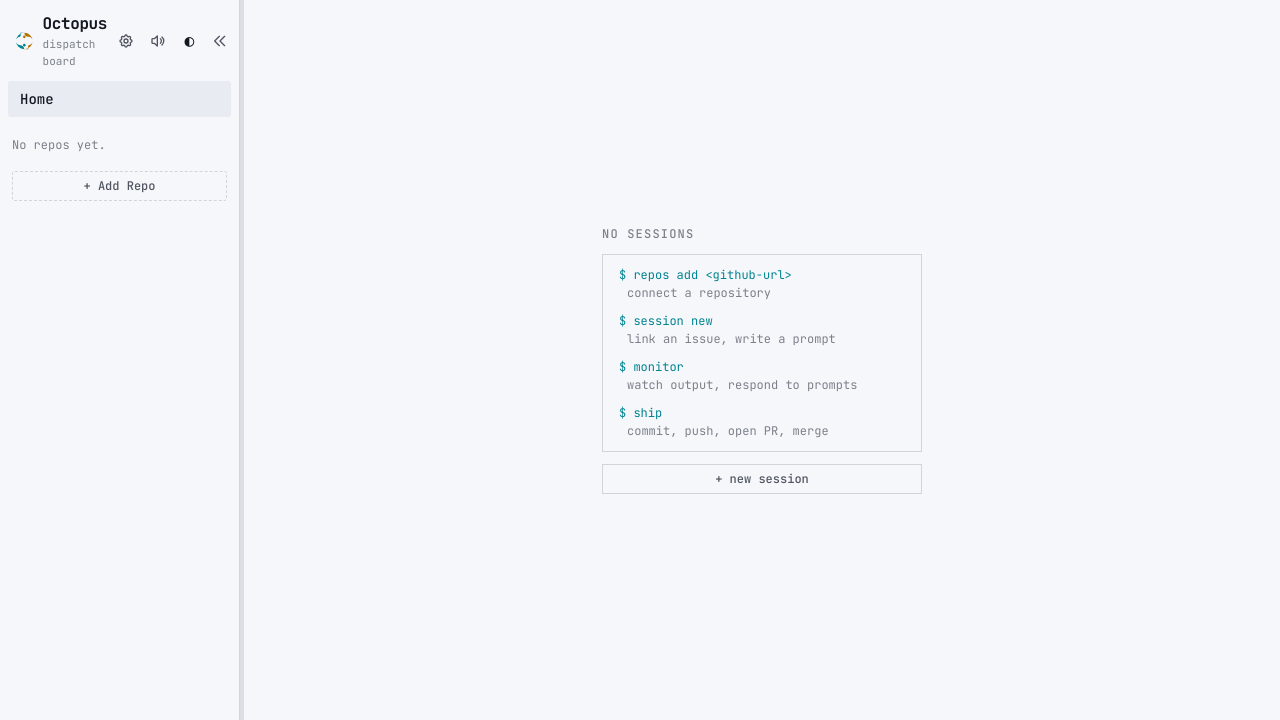
Settings modal › switches to API Keys tab and shows key input
Expected: the heading "Octopus" is shown, 43,12 -> 112,36
Click the button titled "Settings": (126, 40) 112,26 -> 140,54
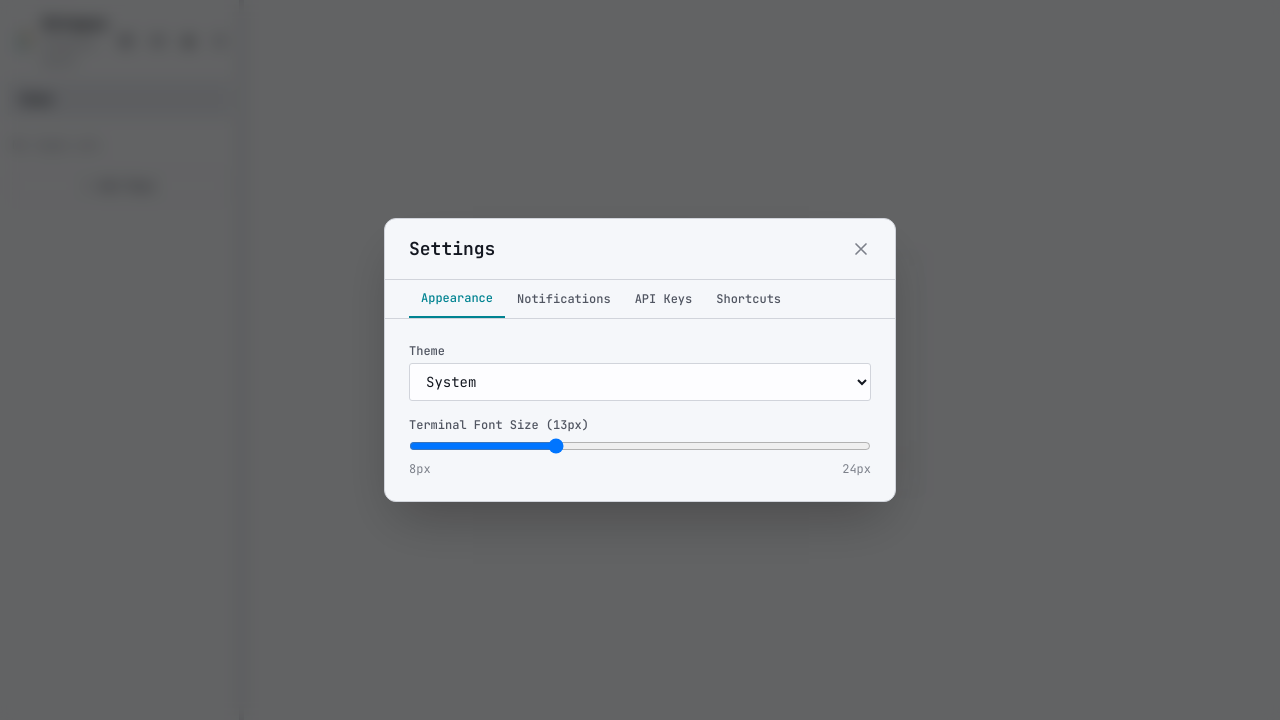
Result: the element with test id "settings-modal" is shown at 384,218 -> 896,502
Click the button "API Keys": (663, 299) 623,280 -> 704,318
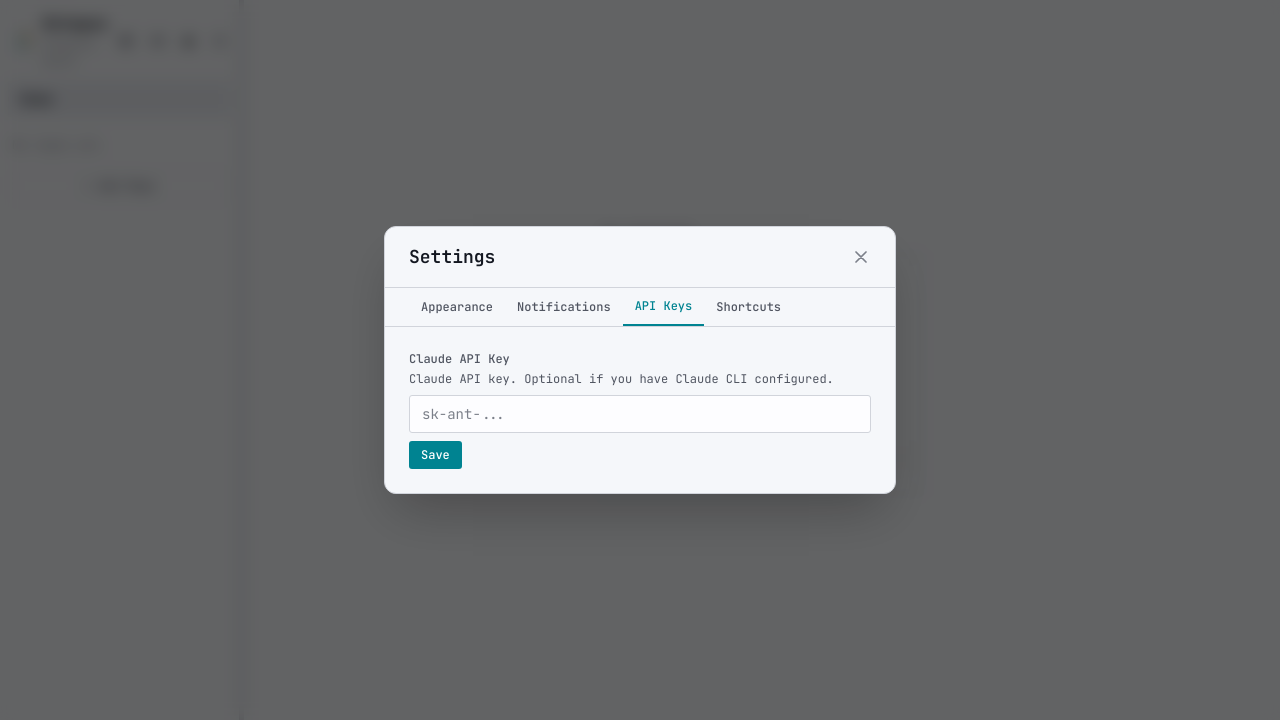
Result: the text "Claude API Key" is shown at 409,351 -> 510,367
Result: the password field with placeholder "sk-ant-..." is shown at 409,395 -> 871,433
